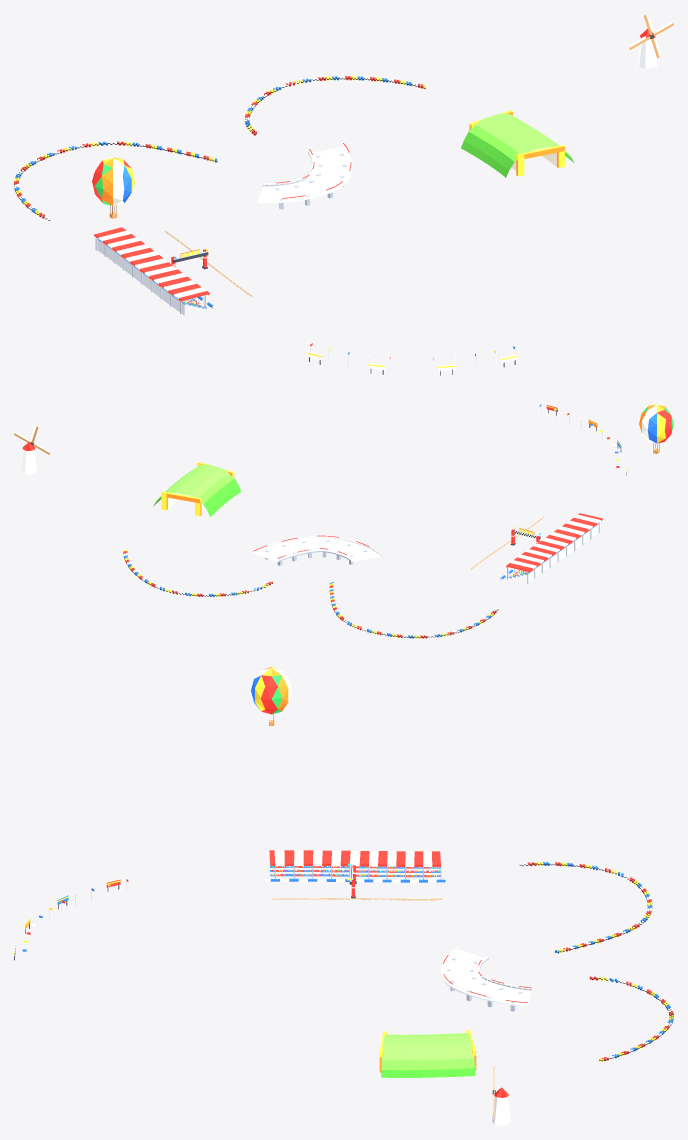
The model's file is course_props.glb.
The picture shows the model from 3 angles, top to bottom: view 1: azimuth 30°, elevation 25°; view 2: azimuth 150°, elevation 25°; view 3: azimuth 270°, elevation 25°; orthographic projection. The views are drawn at different scales.
Visible parts, largest first — view 1: course_props; view 2: course_props; view 3: course_props.
Boxes of the visible parts, x1,y1,x2,y2 form: course_props: [14, 14, 673, 375]; course_props: [14, 404, 673, 638]; course_props: [14, 667, 673, 1125].
Bounding box in the file's own units: 335 × 84.79 × 287.
1 material, 1 textured.
